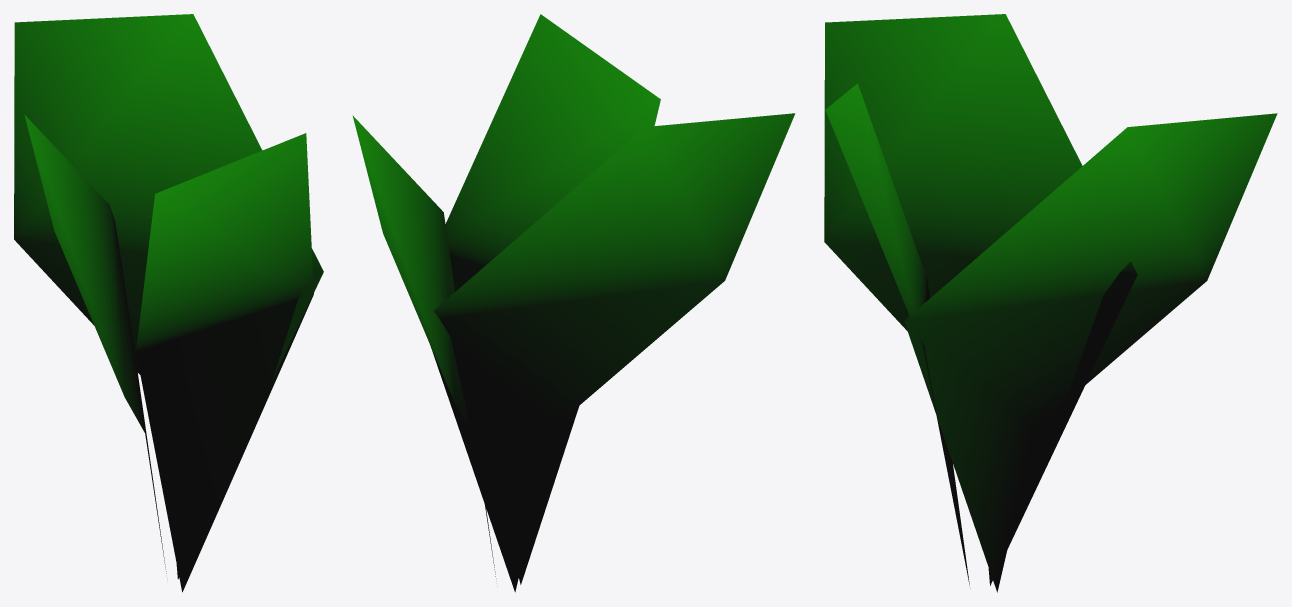
File: Rice_2.fbx
3 renders of one model, left to right at view 1: azimuth 30°, elevation 25°; view 2: azimuth 150°, elevation 25°; view 3: azimuth 270°, elevation 25°, orthographic.
Visible parts, largest first — view 1: Rice_2; view 2: Rice_2; view 3: Rice_2.
Boxes of the visible parts, x1=… form: Rice_2: x1=14, y1=14, x2=323, y2=592; Rice_2: x1=352, y1=14, x2=795, y2=592; Rice_2: x1=824, y1=14, x2=1277, y2=592.
Size of the model in its own units: 44.88 by 69.54 by 56.46.
